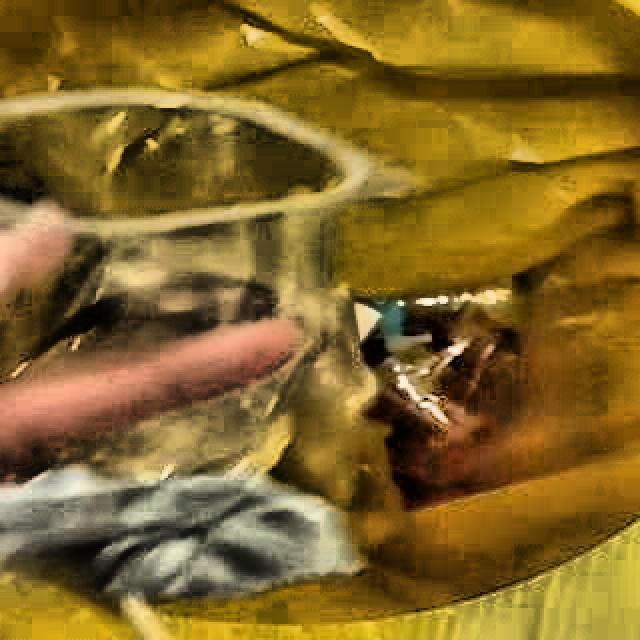plastic: (0, 92, 368, 477)
